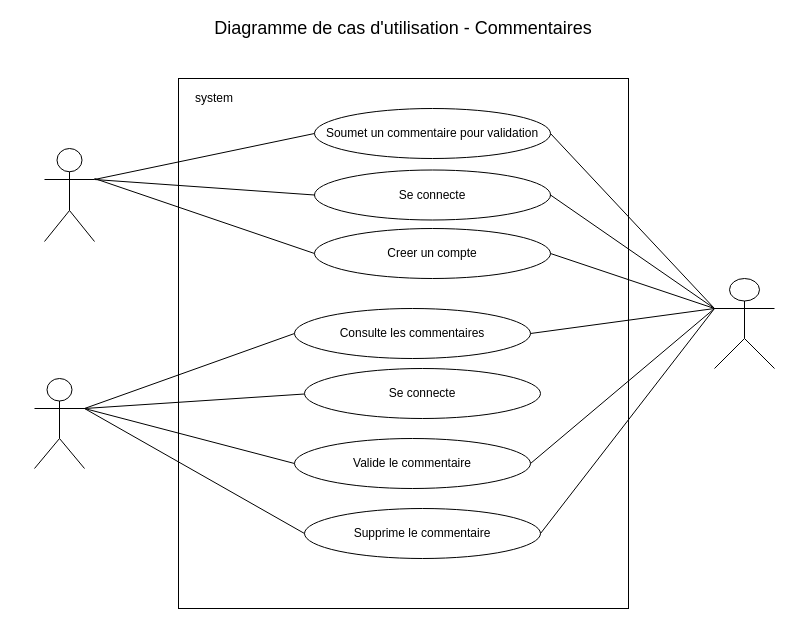
Image size: 801x626. Some labels were removed from this diagram. Here are the shapes that lost their labels. From the top down, the centre of each, then its label:
At [69,195]: "Visiteur".
At [744,323]: "<<systeme>> BDD".
At [59,423]: "Administrateur".
